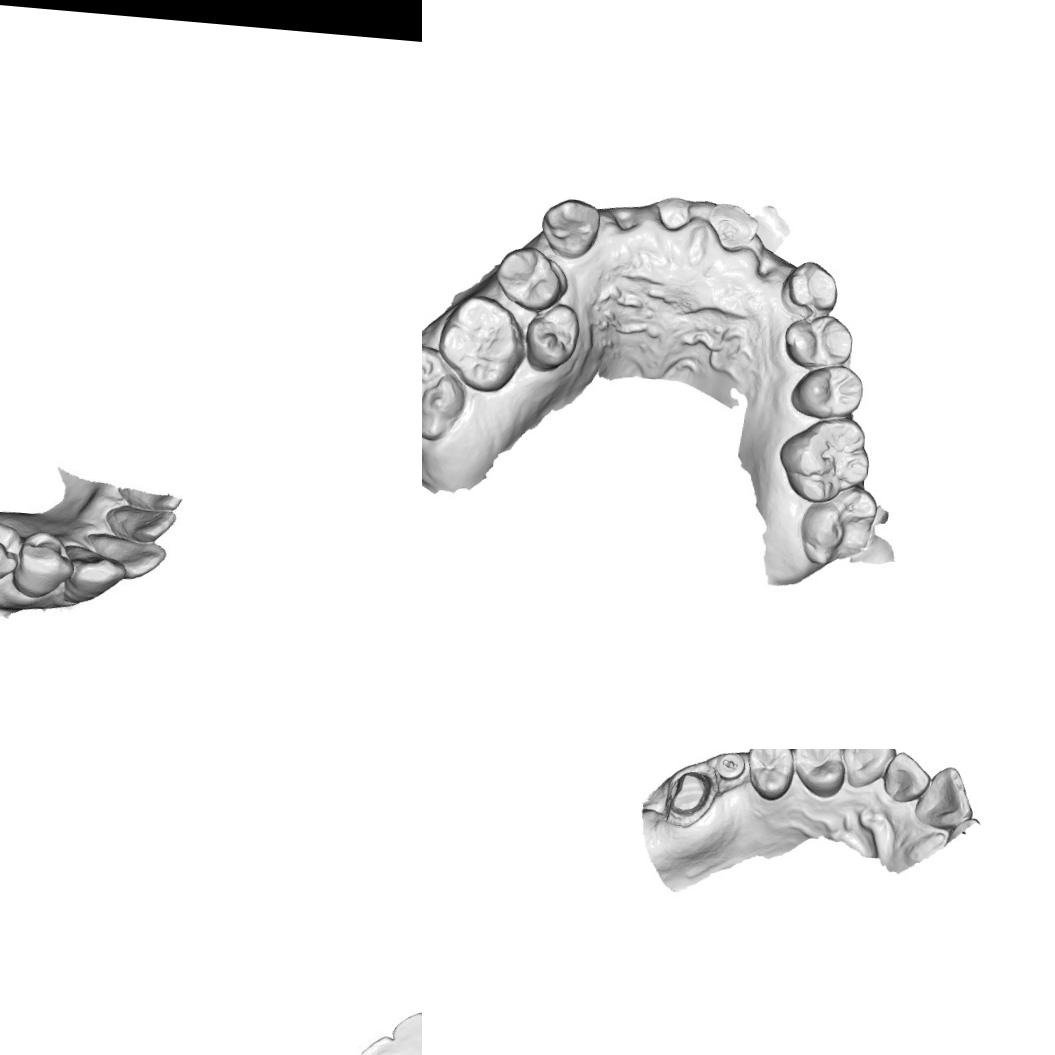canine: (536, 193, 603, 262), (778, 256, 840, 321), (61, 542, 125, 600), (836, 749, 898, 791)
crown: (662, 764, 718, 830)
implant_minus: (711, 749, 747, 784)
incisor: (910, 762, 978, 832), (84, 526, 170, 581), (105, 497, 182, 550), (881, 749, 934, 805), (386, 1004, 422, 1055), (341, 1031, 417, 1055)
molar: (432, 288, 528, 395), (772, 412, 876, 508), (794, 478, 884, 572), (422, 338, 469, 444)
premolar: (489, 243, 572, 316), (788, 361, 866, 424), (779, 310, 858, 372), (520, 299, 582, 376), (11, 528, 74, 599), (788, 749, 850, 800), (742, 749, 797, 804), (0, 514, 23, 593)
